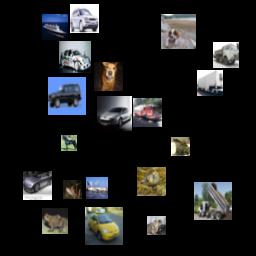airplane: (86, 177, 108, 199)
automobile: (85, 207, 123, 245), (48, 77, 86, 115), (97, 96, 132, 131), (59, 41, 91, 73), (70, 4, 99, 33), (23, 171, 52, 200)
bird: (137, 167, 166, 196)
cat: (147, 216, 166, 235)
dog: (161, 14, 196, 49), (94, 62, 123, 91)
frog: (42, 208, 68, 234), (171, 137, 190, 156), (63, 180, 82, 199)
ship: (42, 14, 68, 40)
truck: (194, 182, 232, 220), (133, 98, 162, 127), (213, 42, 239, 68), (197, 70, 223, 96)
